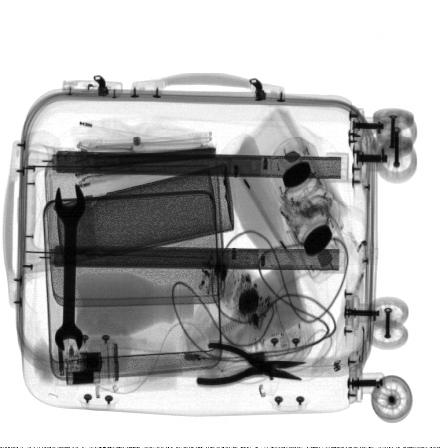Pliers: (195, 341, 306, 388)
Wrench: (54, 185, 86, 352)
